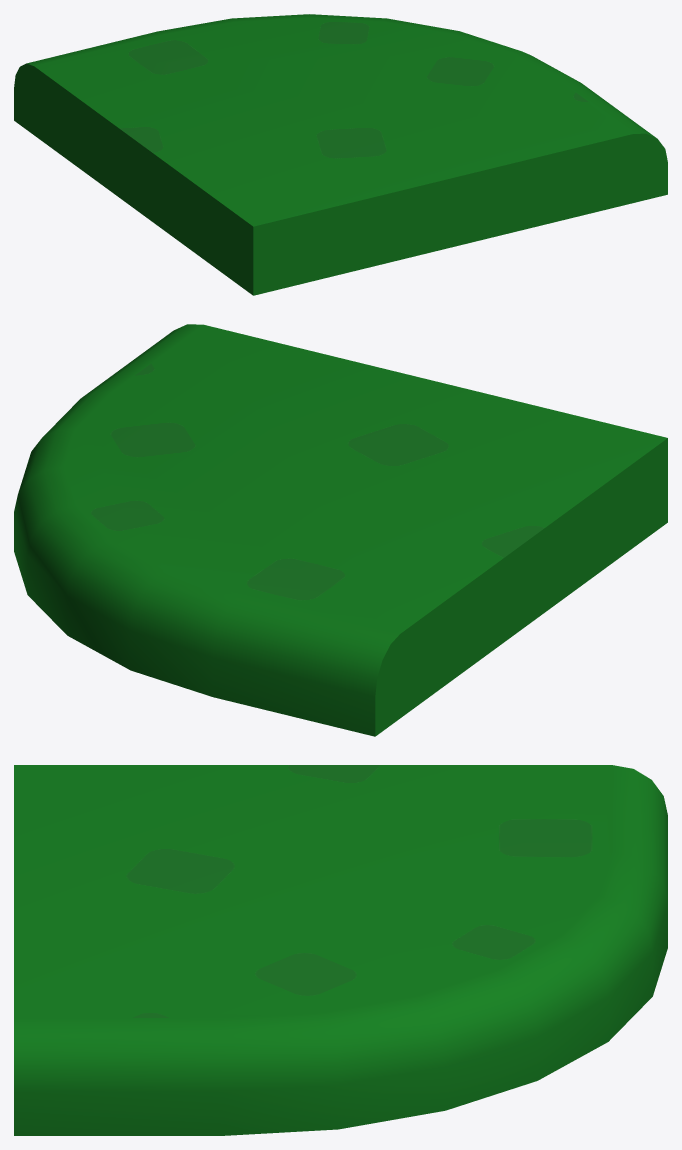
Rendered from GF_Corner_1_3.glb.
3 renders of one model, top to bottom at view 1: azimuth 30°, elevation 25°; view 2: azimuth 150°, elevation 25°; view 3: azimuth 270°, elevation 25°, orthographic. The views are drawn at different scales.
Visible parts, largest first — view 1: GF_Corner_1_3; view 2: GF_Corner_1_3; view 3: GF_Corner_1_3.
Part boxes in pixels (<box>): GF_Corner_1_3: <box>14,14,667,295</box>; GF_Corner_1_3: <box>14,324,667,736</box>; GF_Corner_1_3: <box>14,765,667,1135</box>.
Bounding box in the file's own units: 2 × 0.3187 × 2.
Materials: 1 (1 with a texture image).
